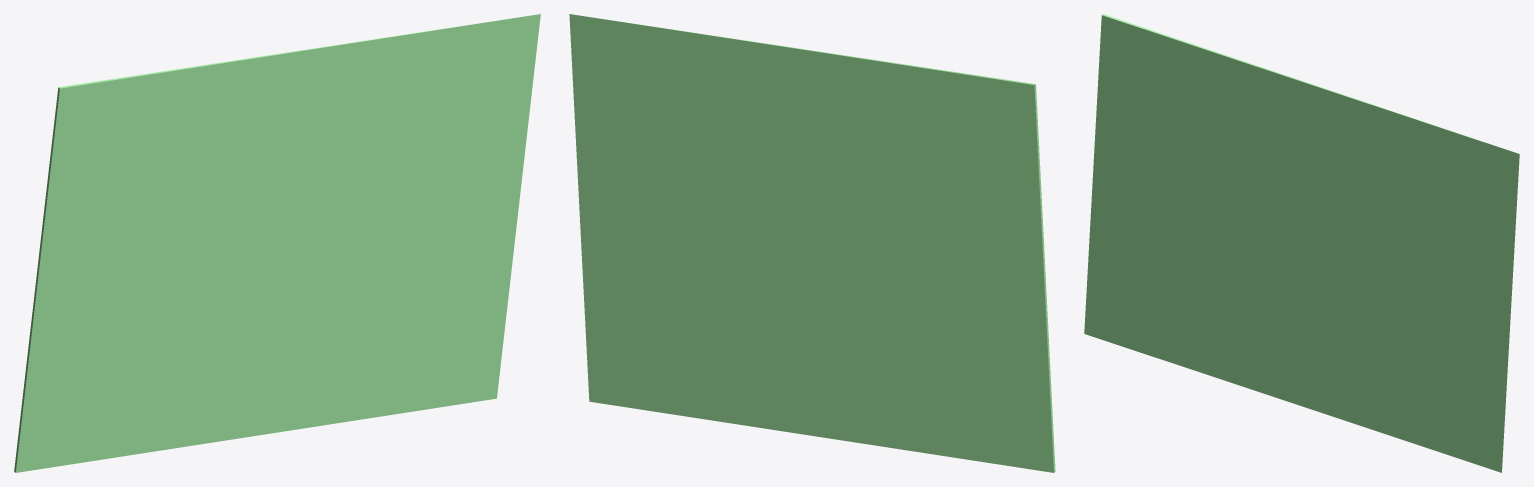
The model's file is UMIRobot_UMIRobot_link_5_convex_coll_59.dae.
3 renders of one model, left to right at view 1: azimuth 30°, elevation 25°; view 2: azimuth 150°, elevation 25°; view 3: azimuth 330°, elevation 25°, orthographic. The views are drawn at different scales.
Parts seen in each view (by area): view 1: node; view 2: node; view 3: node.
Boxes of the visible parts, box(x1,y1,x2,y2) form: node: box(14, 14, 540, 472); node: box(569, 14, 1055, 472); node: box(1084, 14, 1519, 472).
Size of the model in its own units: 0.0181 by 0.0144 by 0.000825.
